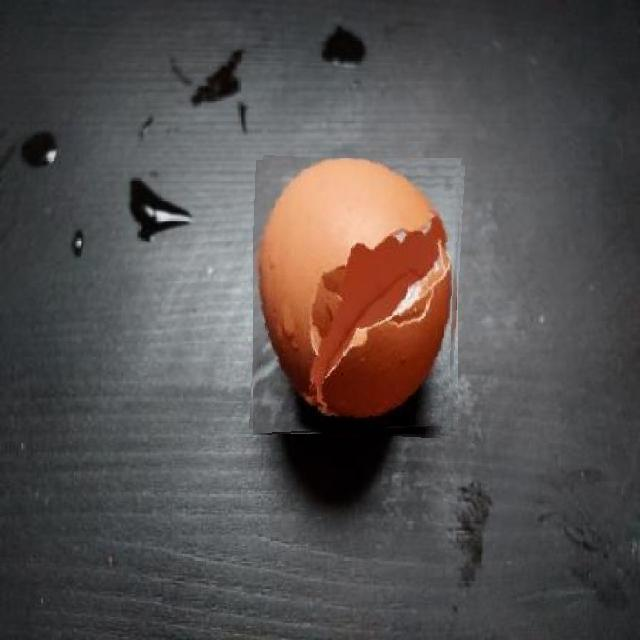biodegradable: (253, 158, 462, 436)
